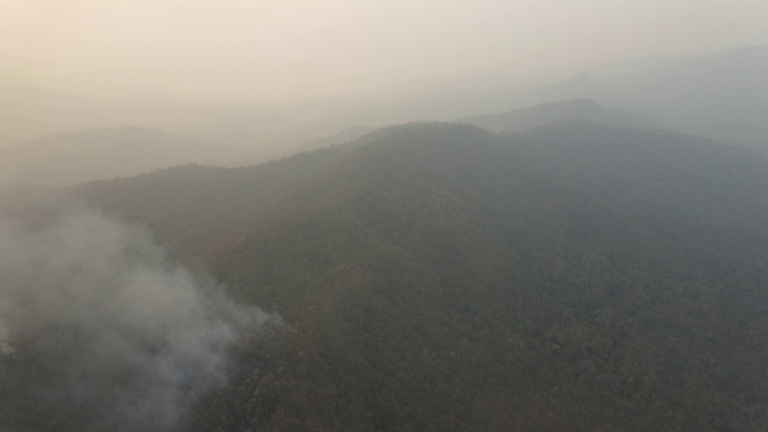smoke: (1, 186, 299, 432)
